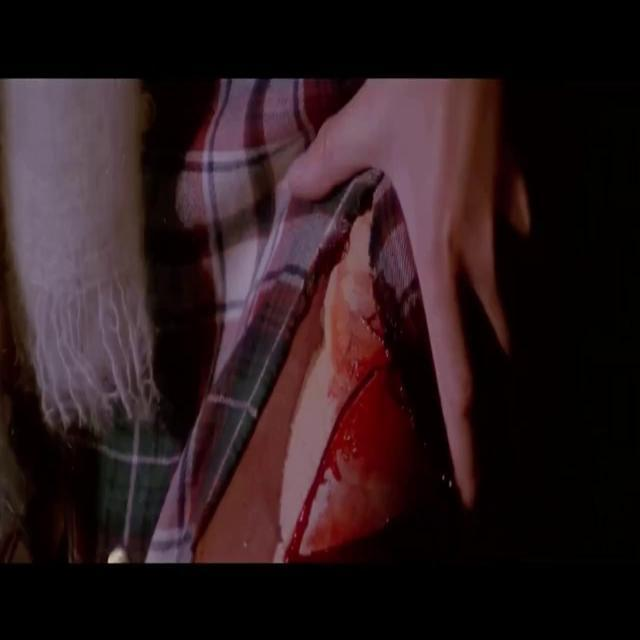flood: (292, 260, 446, 552)
